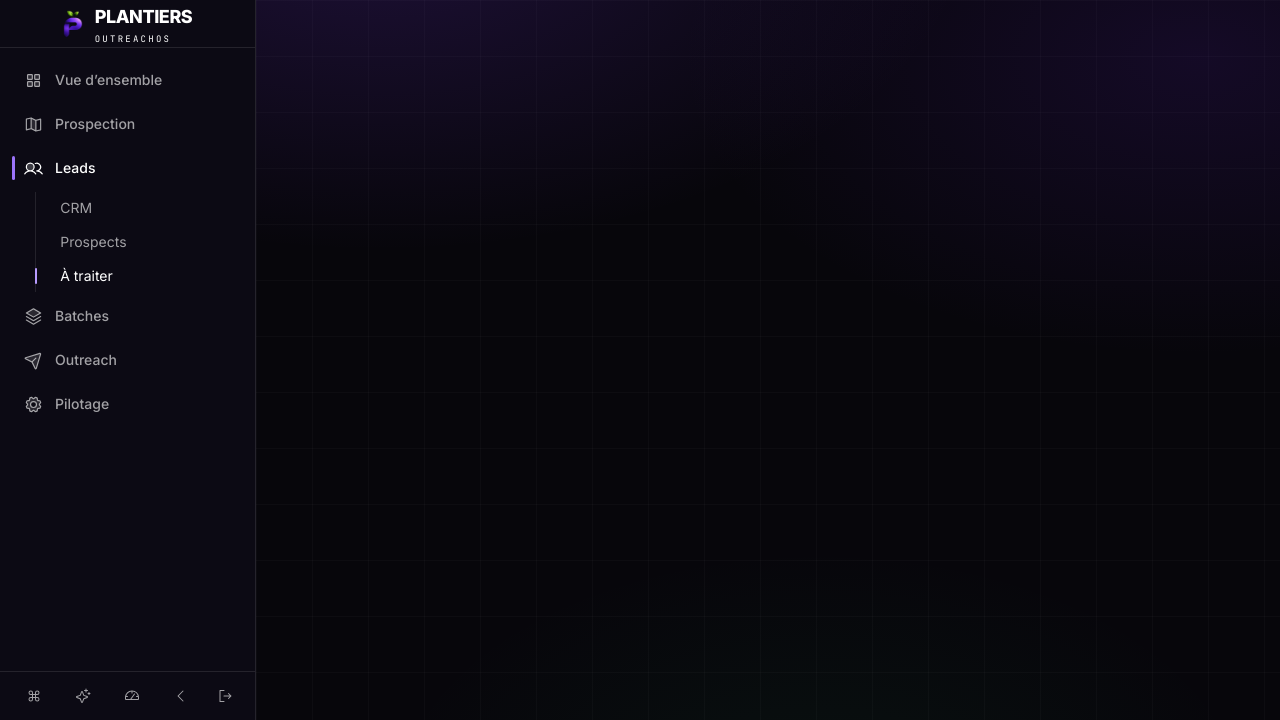
it: folding keeps every destination reachable by an accessible name and remembers the choice
The width and height of the screenshot is (1280, 720).
Later steps or results of the test are not shown.
Click the button named "Replier la navigation". click: (181, 696)
box: [158,680,203,712]
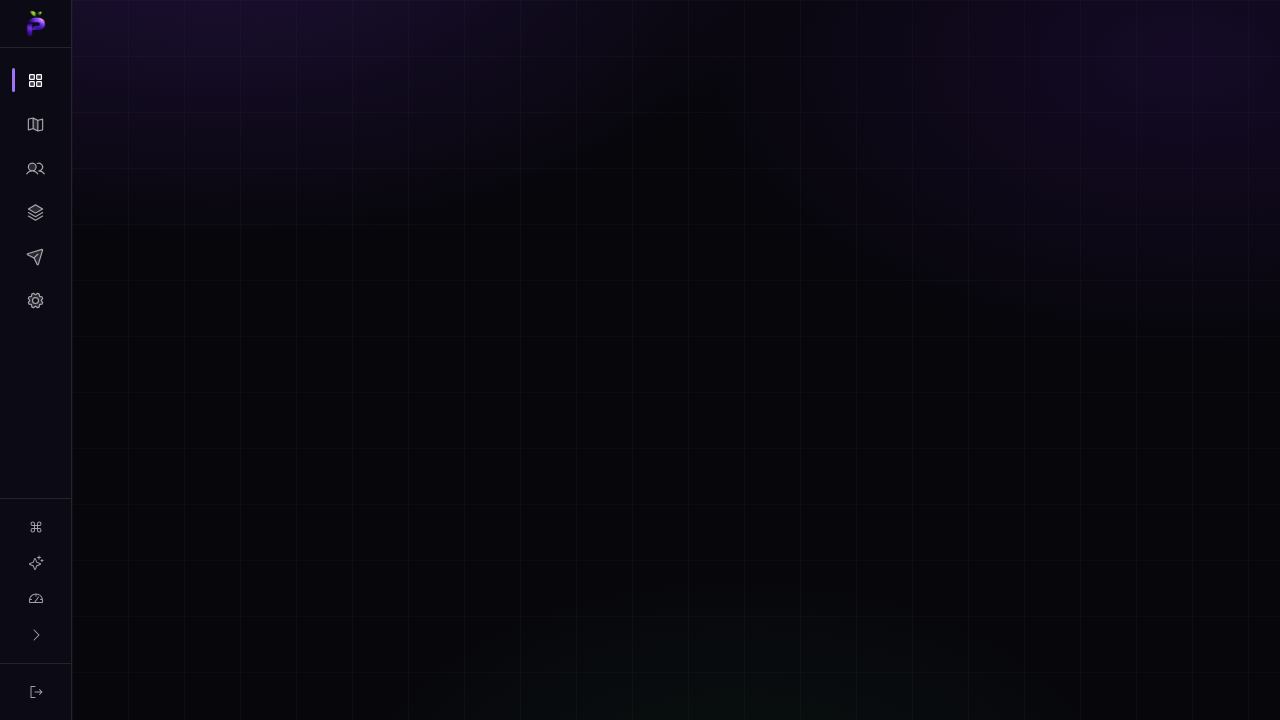
Now the list with test id "subnav" is gone
